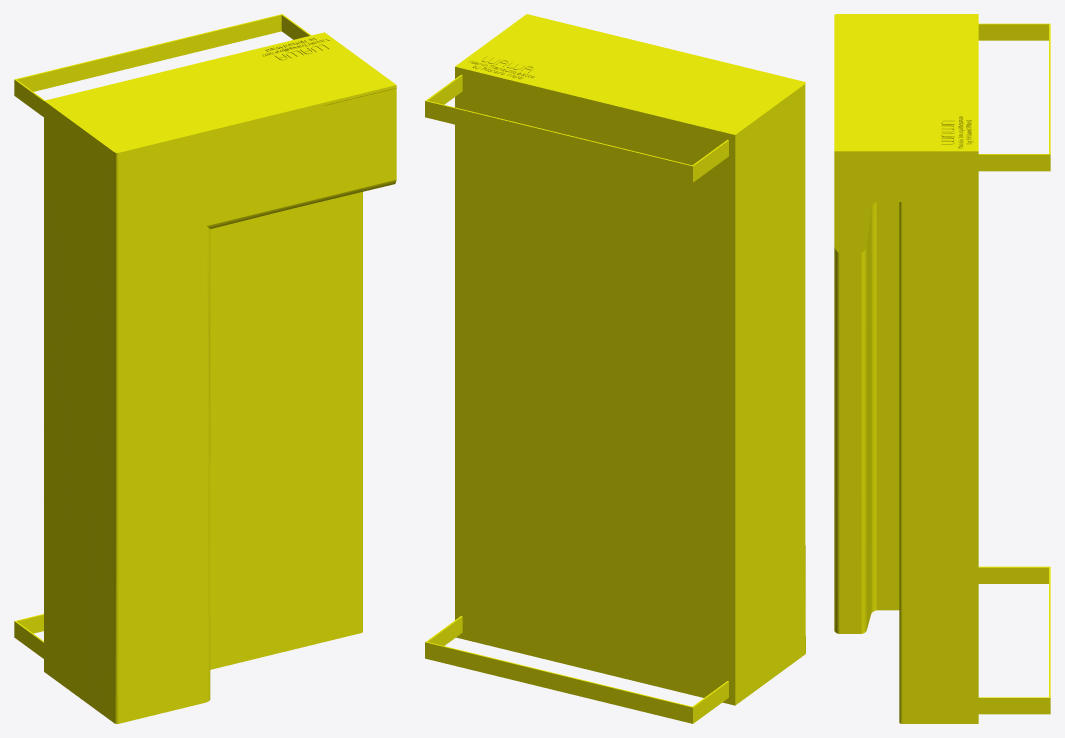
Rendered from Yasmin Tranquillo.obj.
The picture shows the model from 3 angles, left to right: view 1: azimuth 30°, elevation 25°; view 2: azimuth 150°, elevation 25°; view 3: azimuth 270°, elevation 25°; orthographic projection.
Visible parts, largest first — view 1: Shape21, Shape37, Shape24, Shape42, Shape8, Shape40, Shape39, Shape38, Shape25, Shape43; view 2: Shape23, Shape24, Shape42, Shape4, Shape14, Shape5, Shape15; view 3: Shape44, Shape42, Shape36, Shape32, Shape35, Shape33, Shape39, Shape38, Shape34, Shape3, Shape13, Shape7 (+3 smaller).
Part boxes in pixels (bbox=[...]): Shape21: bbox=[119, 88, 396, 723]; Shape37: bbox=[210, 192, 361, 669]; Shape24: bbox=[44, 101, 114, 722]; Shape42: bbox=[44, 32, 395, 152]; Shape8: bbox=[17, 15, 281, 91]; Shape40: bbox=[114, 152, 119, 723]; Shape39: bbox=[206, 226, 210, 702]; Shape38: bbox=[361, 192, 362, 632]; Shape25: bbox=[207, 179, 396, 228]; Shape43: bbox=[206, 85, 396, 134]; Shape23: bbox=[455, 66, 735, 705]; Shape24: bbox=[735, 84, 805, 705]; Shape42: bbox=[455, 14, 805, 134]; Shape4: bbox=[425, 101, 692, 182]; Shape14: bbox=[425, 642, 692, 723]; Shape5: bbox=[693, 140, 728, 182]; Shape15: bbox=[693, 681, 728, 723]; Shape44: bbox=[834, 151, 978, 723]; Shape42: bbox=[834, 14, 978, 151]; Shape36: bbox=[876, 202, 899, 610]; Shape32: bbox=[840, 252, 860, 633]; Shape35: bbox=[871, 202, 876, 613]; Shape33: bbox=[861, 247, 866, 633]; Shape39: bbox=[834, 247, 839, 633]; Shape38: bbox=[899, 202, 902, 723]; Shape34: bbox=[866, 213, 870, 629]; Shape3: bbox=[978, 154, 1050, 171]; Shape13: bbox=[978, 698, 1050, 714]; Shape7: bbox=[978, 24, 1048, 40].
Size of the model in its own units: 0.9 by 1.75 by 0.6.
